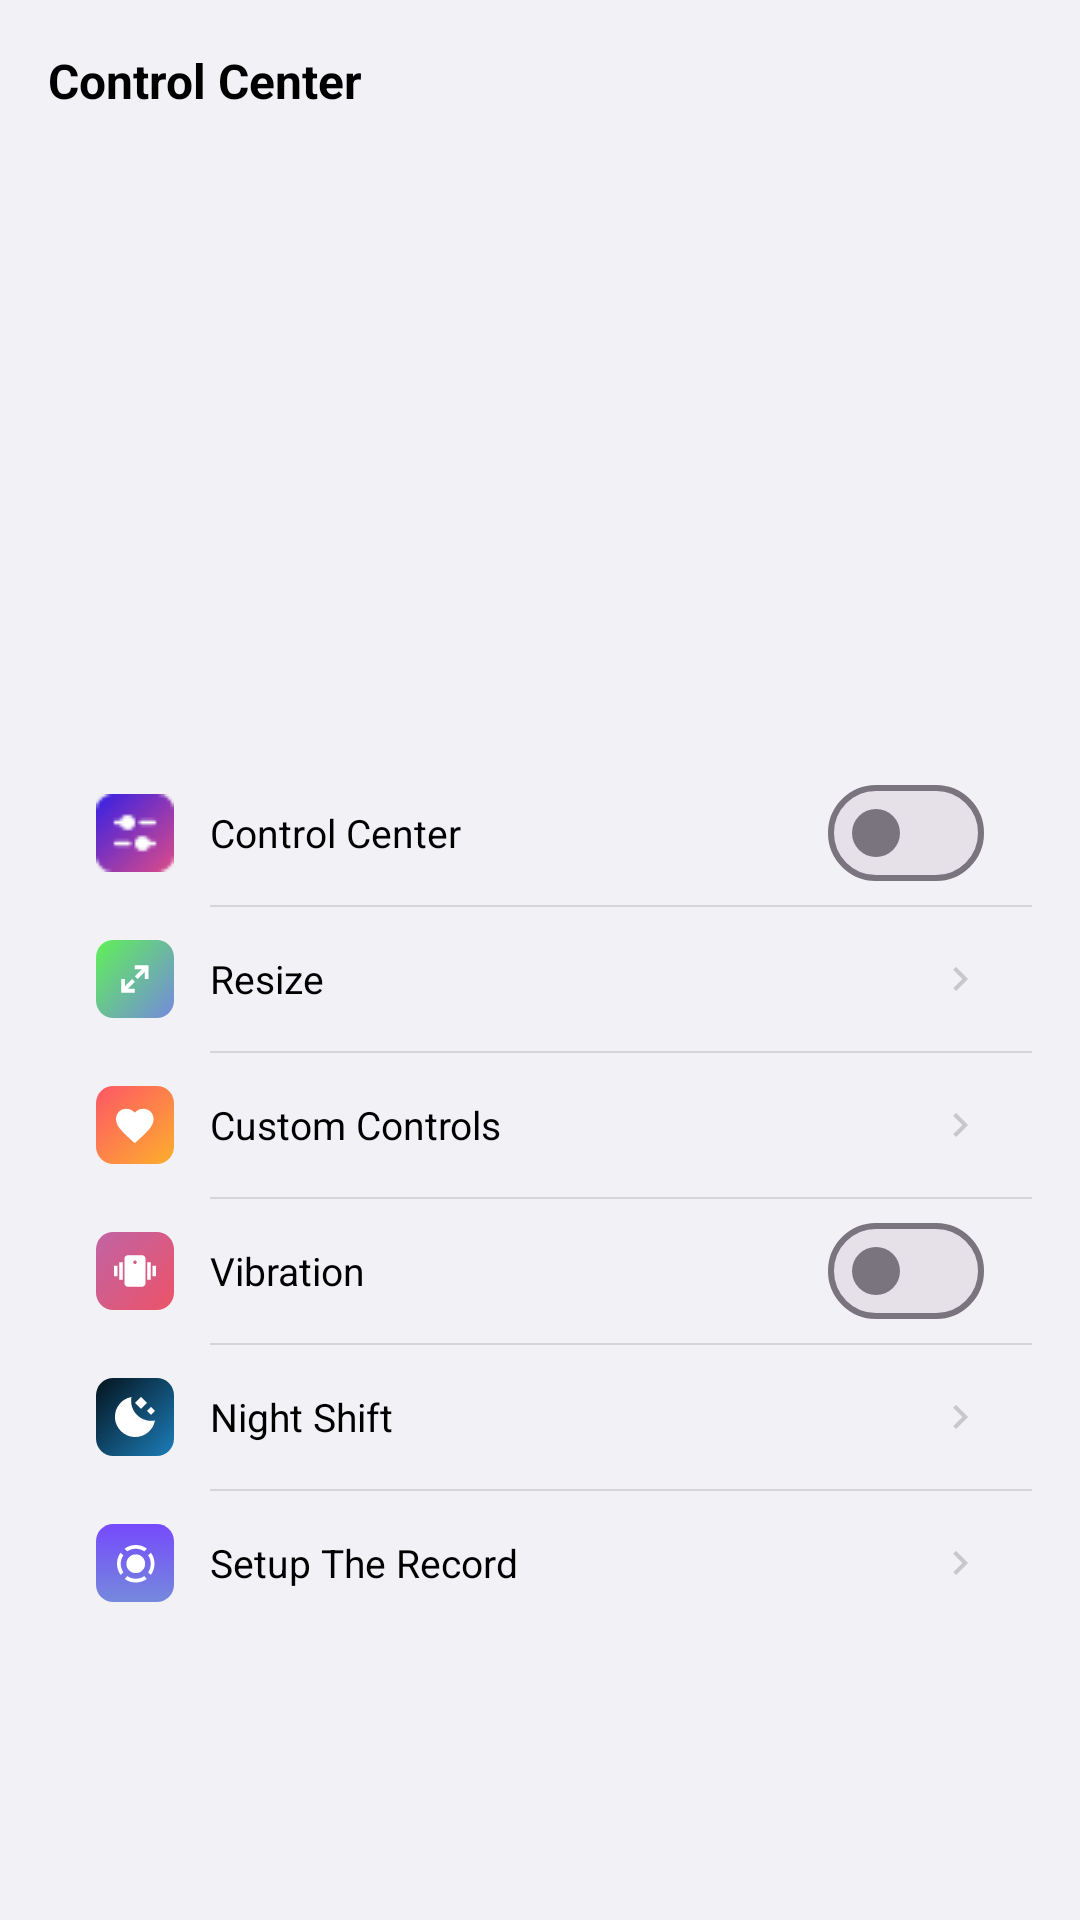

Icons on this 1080px x 1920px Android screen, each with the point to tap as [x,y]:
chevron right: [960,979], [960,1125], [960,1417], [960,1563]
